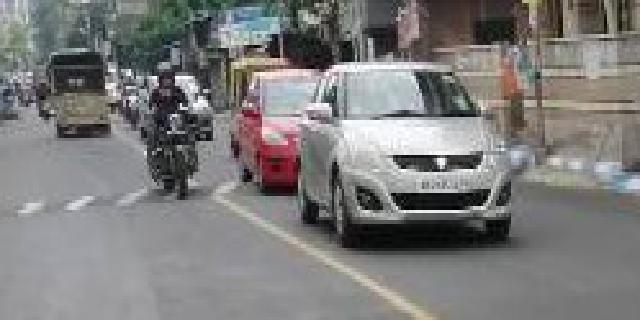Car: (294, 54, 517, 249), (232, 64, 309, 199)
Minitruck: (46, 50, 110, 139)
Motorbike: (135, 60, 204, 202)
